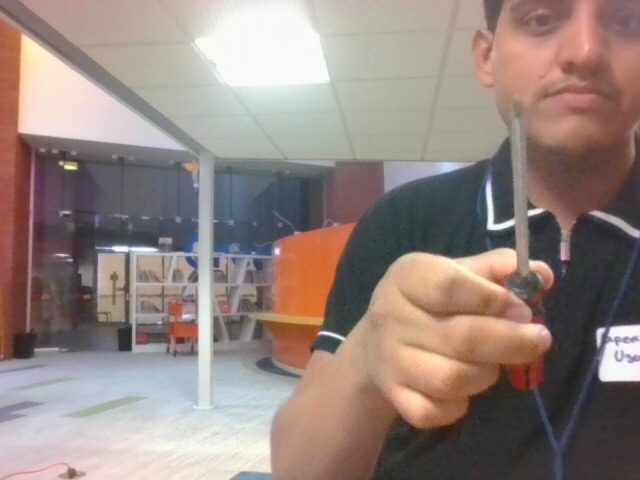destornillador: (503, 93, 549, 390)
